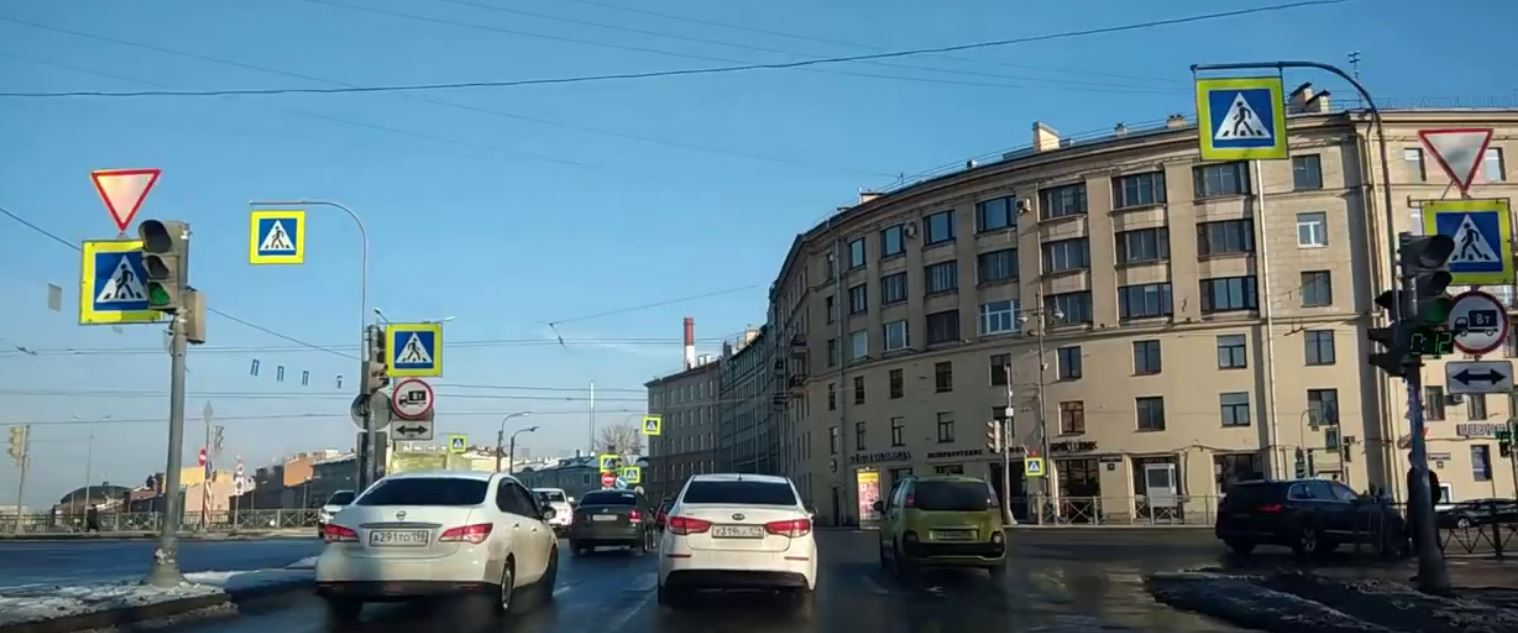Yaya Gecidi: (1430, 208, 1502, 268), (89, 254, 153, 311), (1207, 91, 1274, 145), (257, 214, 298, 259), (393, 330, 438, 371)
Yol Ver: (89, 155, 165, 236), (1420, 118, 1488, 199)
